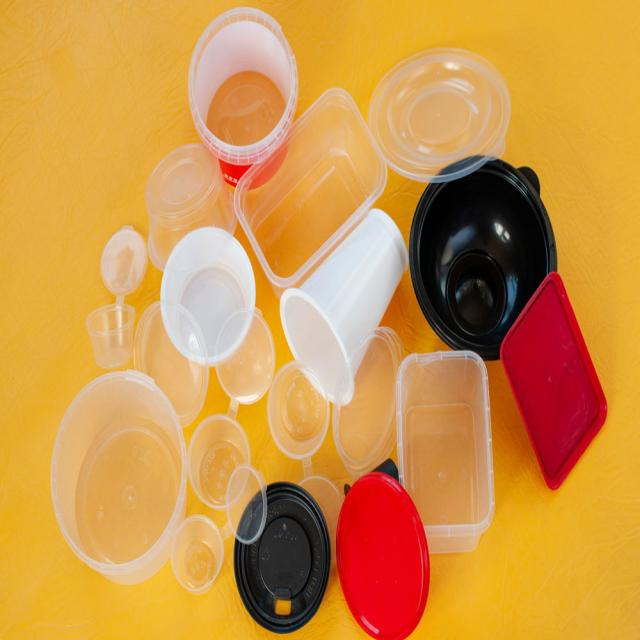plastic: (41, 365, 185, 581), (409, 154, 558, 356), (239, 89, 387, 288), (283, 214, 408, 404), (500, 272, 606, 490), (395, 343, 498, 557), (368, 43, 516, 178), (190, 18, 304, 184), (210, 310, 330, 467), (229, 470, 339, 640), (167, 417, 266, 595), (335, 477, 433, 637), (156, 230, 260, 363), (138, 147, 236, 265), (80, 219, 148, 362)
